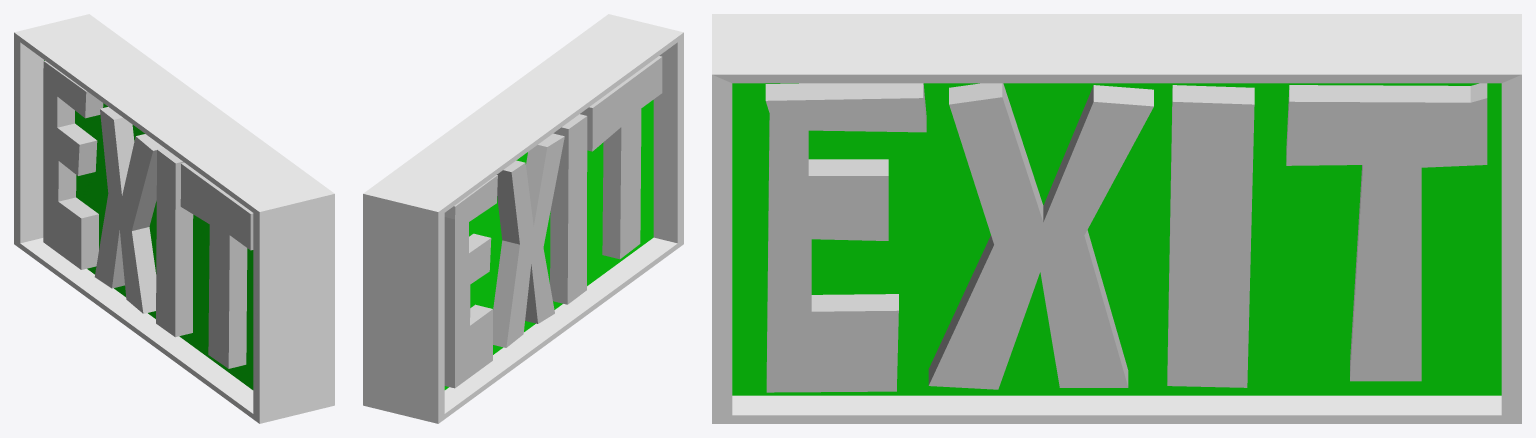
The model's file is Signage.fbx.
The picture shows the model from 3 angles, left to right: view 1: azimuth 30°, elevation 25°; view 2: azimuth 150°, elevation 25°; view 3: azimuth 270°, elevation 25°; orthographic projection. The views are drawn at different scales.
Visible parts, largest first — view 1: Cube; view 2: Cube; view 3: Cube.
Boxes of the visible parts, x1,y1,x2,y2 form: Cube: (14, 14, 334, 423); Cube: (363, 14, 683, 423); Cube: (712, 14, 1521, 423).
Bounding box in the file's own units: 110 × 296 × 622.
